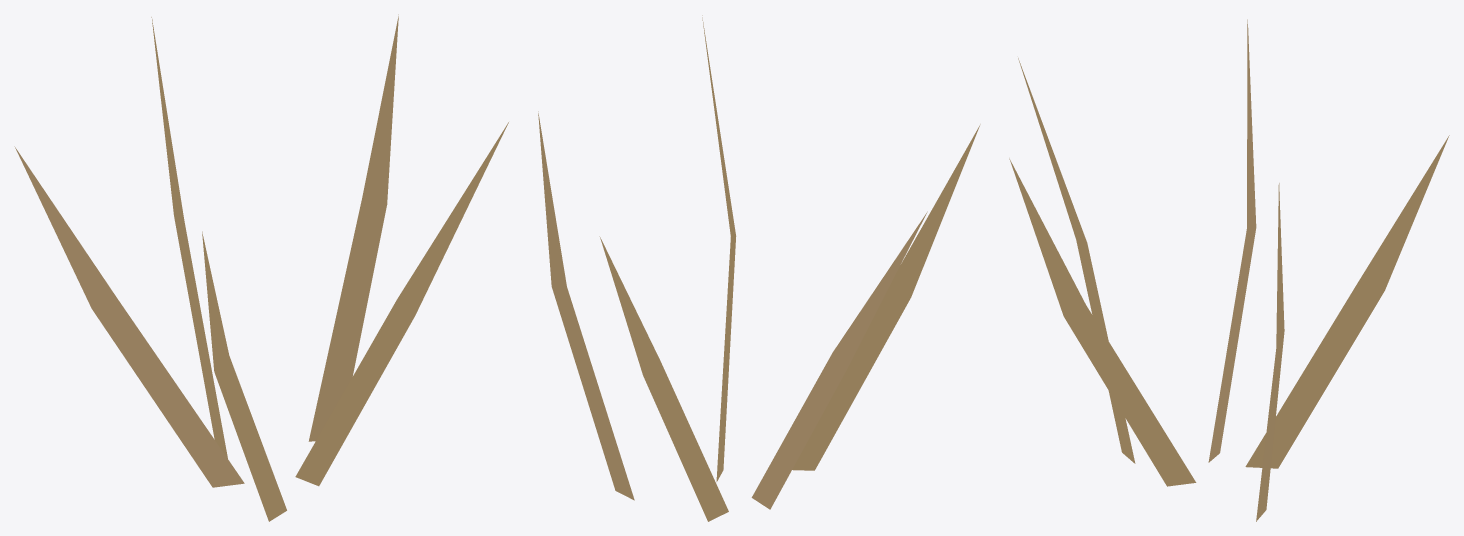
The model's file is Dead_Bush_b_01.fbx.
3 renders of one model, left to right at view 1: azimuth 30°, elevation 25°; view 2: azimuth 150°, elevation 25°; view 3: azimuth 270°, elevation 25°, orthographic. The views are drawn at different scales.
Parts seen in each view (by area): view 1: Dead_Bush_b_01; view 2: Dead_Bush_b_01; view 3: Dead_Bush_b_01.
Part boxes in pixels (bbox=[...]): Dead_Bush_b_01: bbox=[14, 14, 508, 521]; Dead_Bush_b_01: bbox=[538, 15, 980, 521]; Dead_Bush_b_01: bbox=[1009, 19, 1449, 521].
Size of the model in its own units: 0.4731 by 0.4568 by 0.4777.
